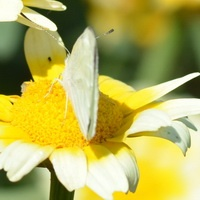insect: (61, 27, 98, 139)
